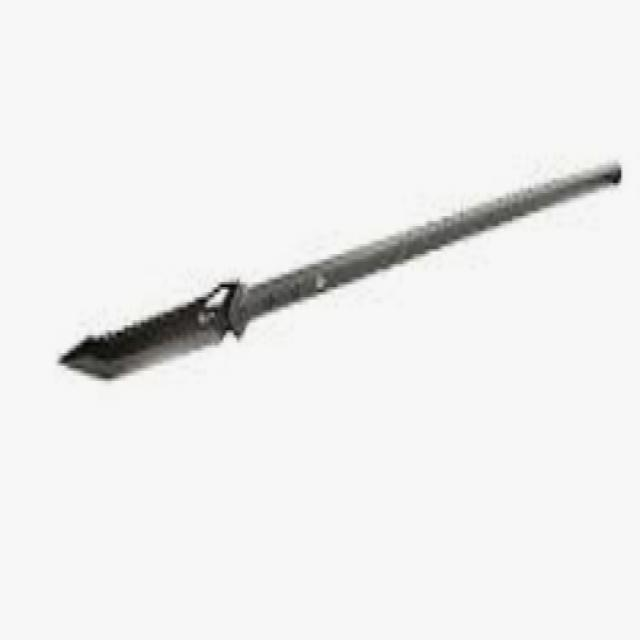spear: (36, 154, 628, 420)
